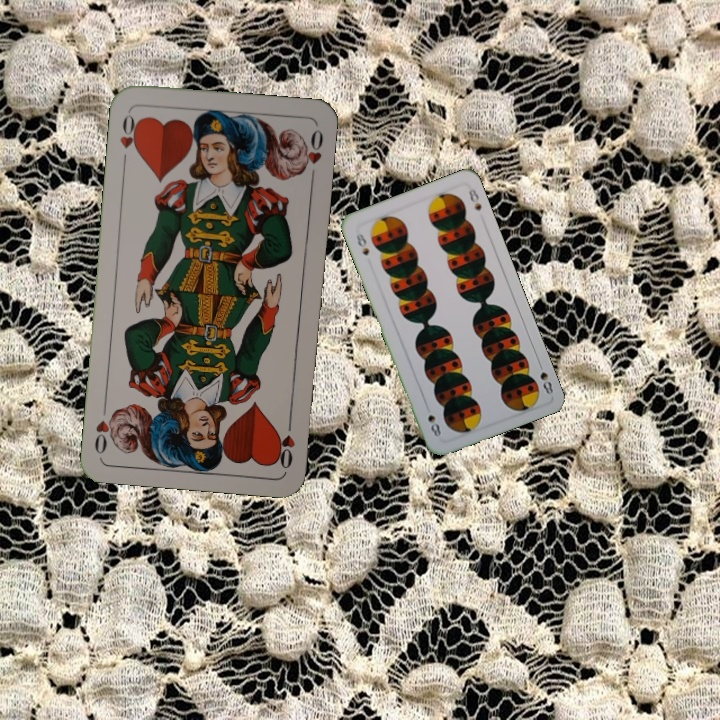HO: (116, 108, 143, 167), (273, 413, 298, 472)
S8: (534, 358, 556, 397), (352, 230, 372, 258)
